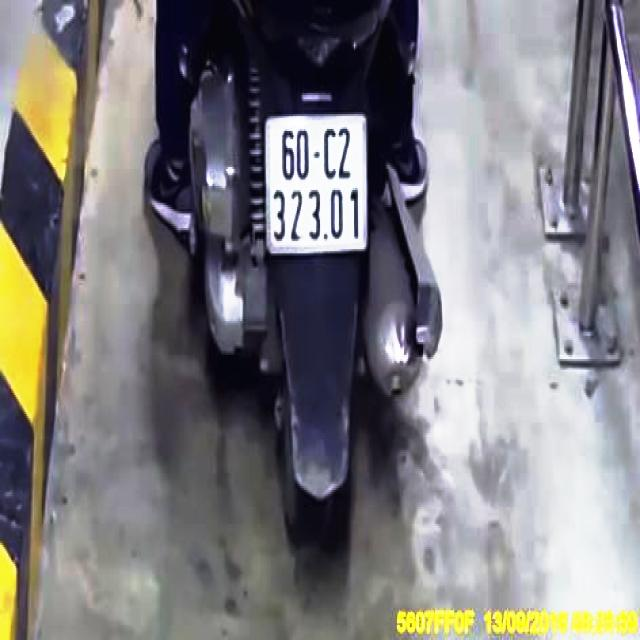license_plate: (267, 114, 370, 251)
